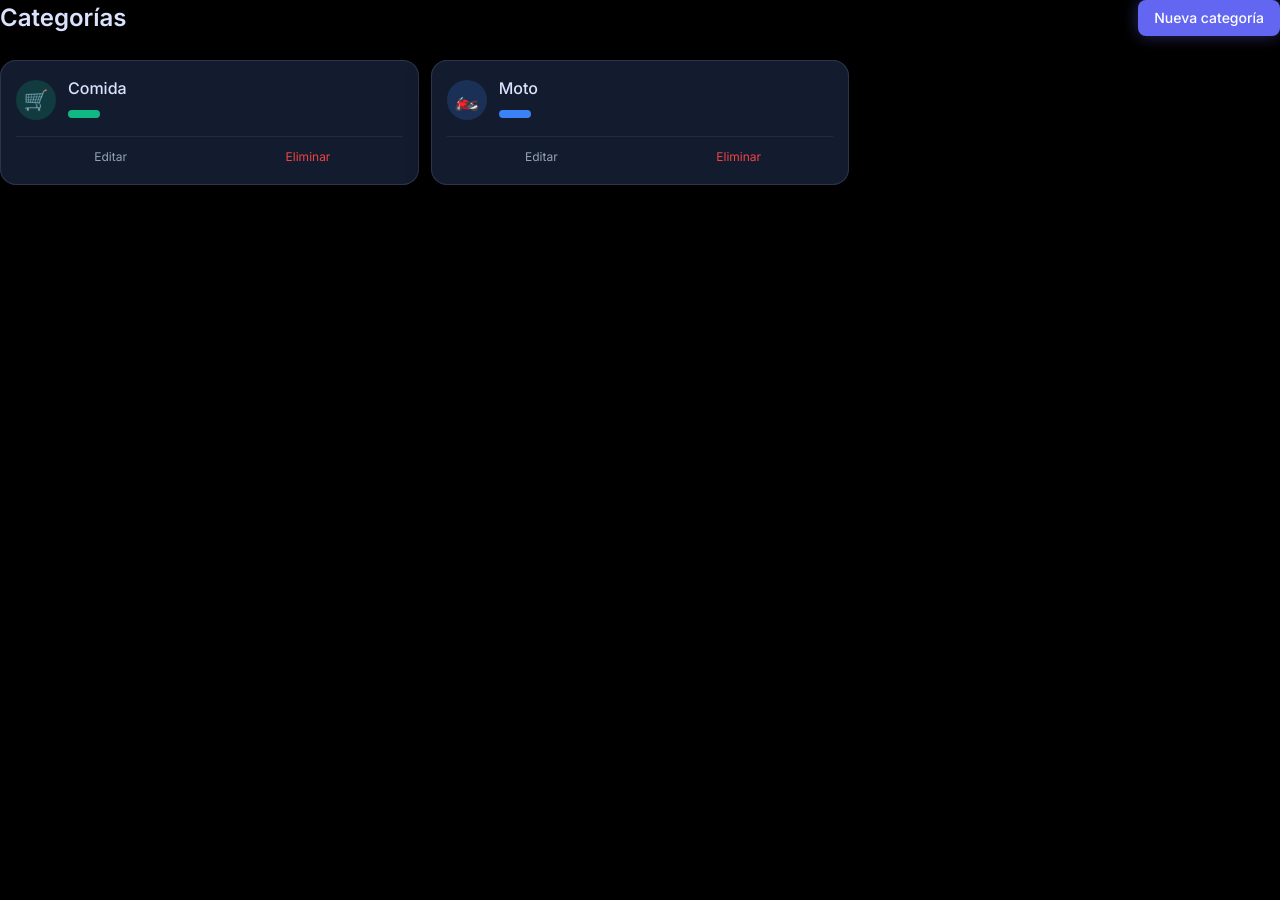
Test case: CategoriesPage › opens confirm dialog when delete is clicked
What coordinates should you click on to do the following:
click the button with aria-label "eliminar comida"
I would click on:
 (308, 157)
Its box is [213,145,403,169].
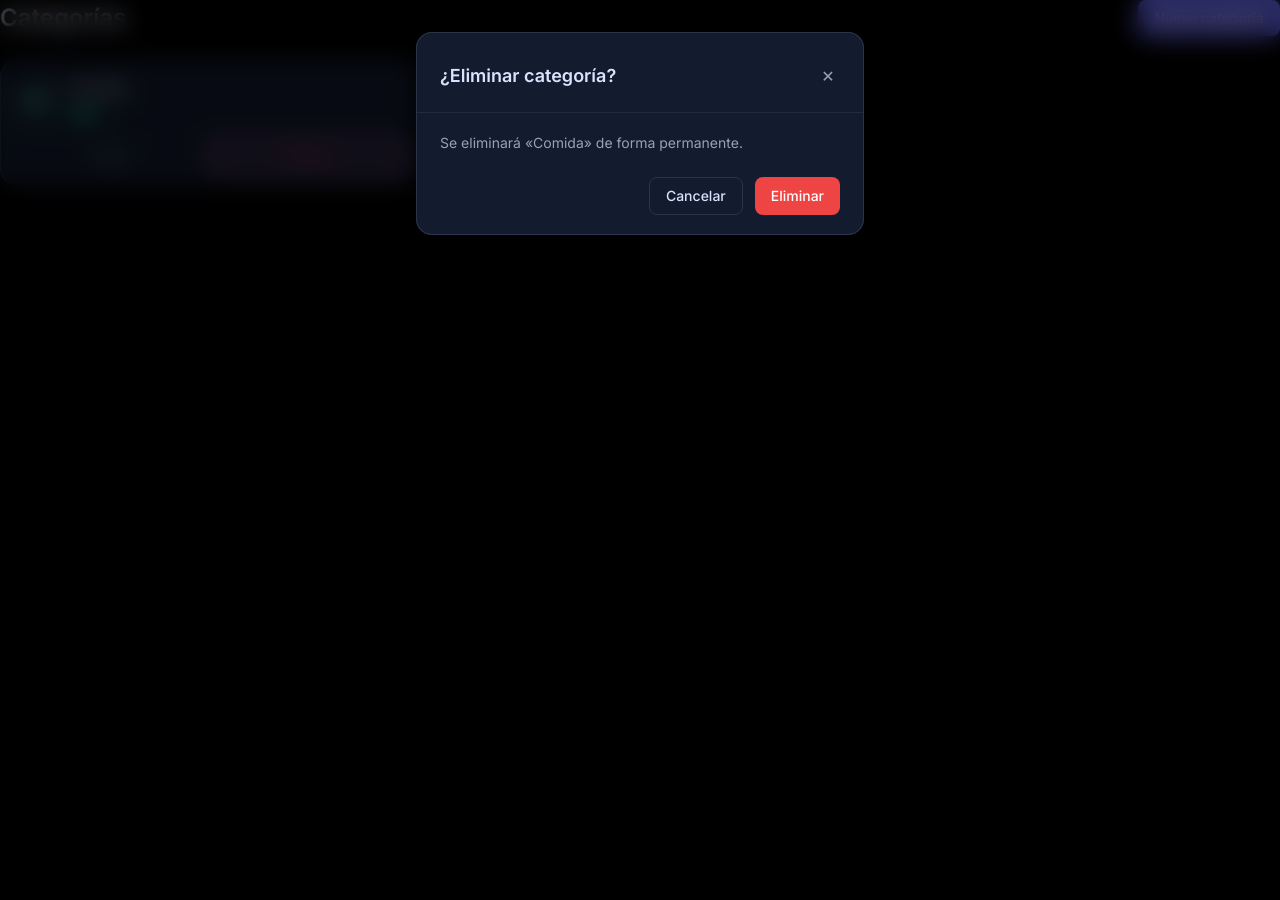
Expected: the dialog is shown
Expected: the heading "¿Eliminar categoría?" is shown, [440,62,616,90]
